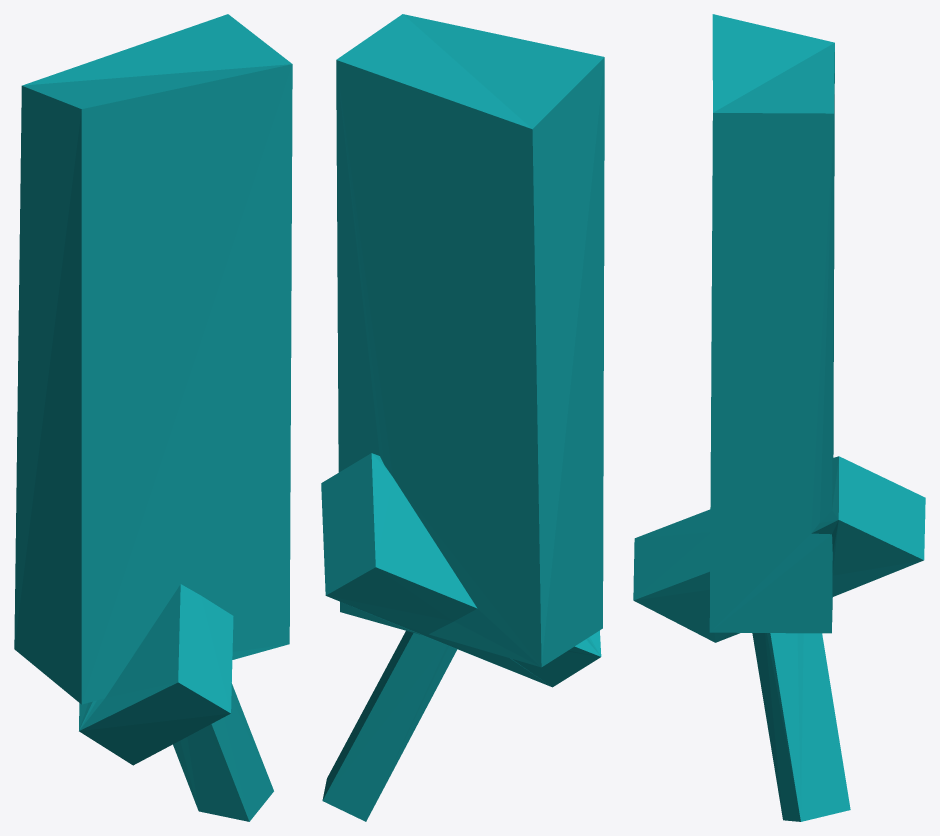
The picture shows the model from 3 angles, left to right: view 1: azimuth 30°, elevation 25°; view 2: azimuth 150°, elevation 25°; view 3: azimuth 270°, elevation 25°; orthographic projection. The views are drawn at different scales.
Visible parts, largest first — view 1: 830_Cube.3345; view 2: 830_Cube.3345; view 3: 830_Cube.3345.
Part boxes in pixels (bbox=[...]): 830_Cube.3345: bbox=[14, 14, 292, 821]; 830_Cube.3345: bbox=[321, 14, 604, 821]; 830_Cube.3345: bbox=[633, 14, 925, 821].
Bounding box in the file's own units: 5.36 × 16.83 × 6.21.
